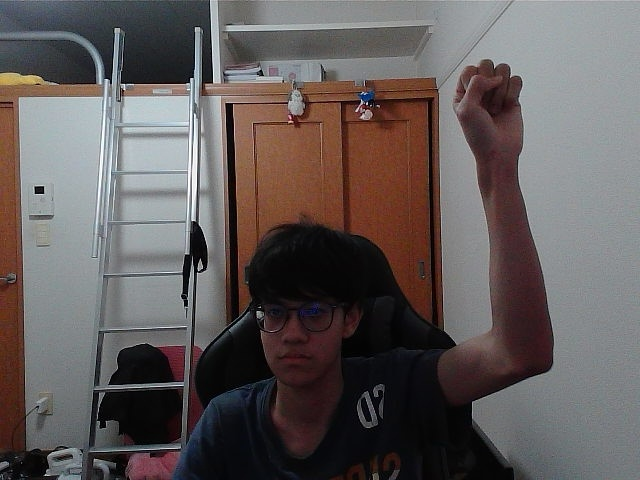closed_palm: (463, 65, 515, 153)
